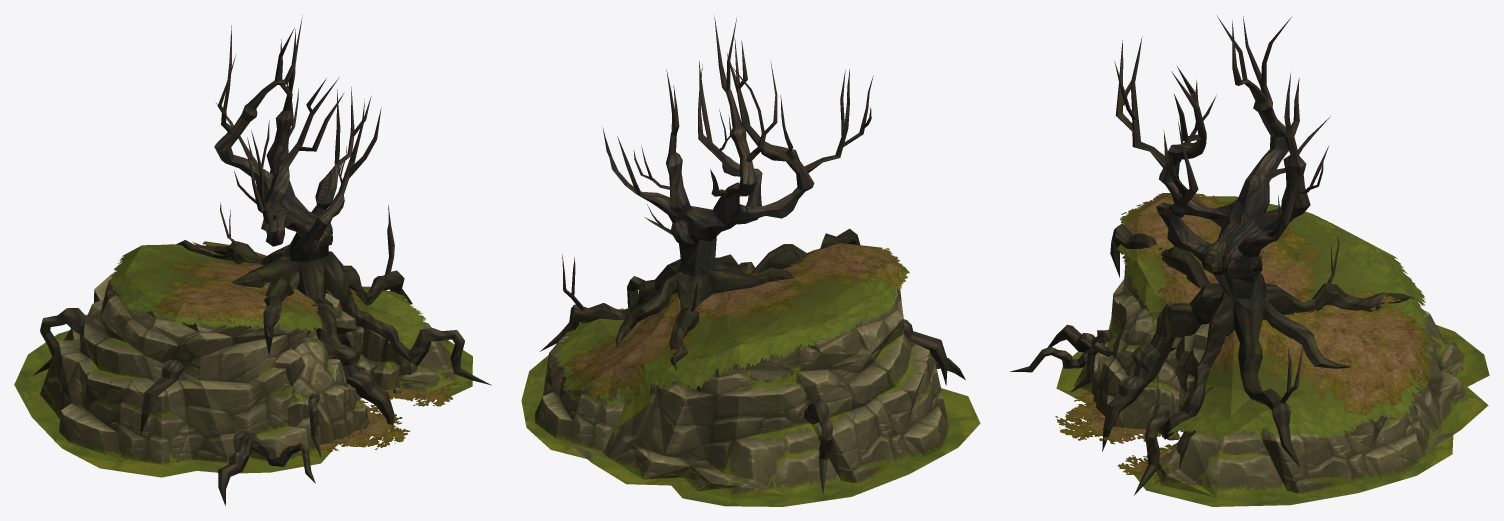
Rendered from spider_tree_01.fbx.
3 views of the same model, side by side, from view 1: azimuth 30°, elevation 25°; view 2: azimuth 150°, elevation 25°; view 3: azimuth 270°, elevation 25° (orthographic). The views are drawn at different scales.
Parts seen in each view (by area): view 1: obj4.002; view 2: obj4.002; view 3: obj4.002.
Boxes of the visible parts, bbox=[...] form: obj4.002: bbox=[14, 15, 491, 505]; obj4.002: bbox=[521, 15, 980, 506]; obj4.002: bbox=[1010, 15, 1489, 506].
Size of the model in its own units: 27.74 by 25.58 by 26.56.
